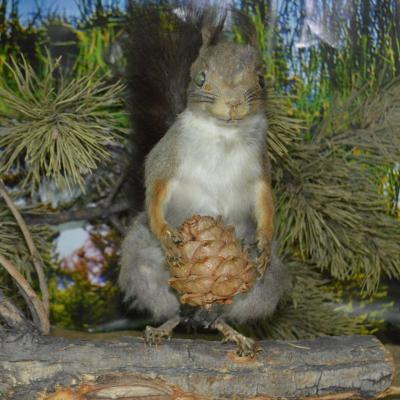natural_science_collection: (118, 4, 293, 358)
